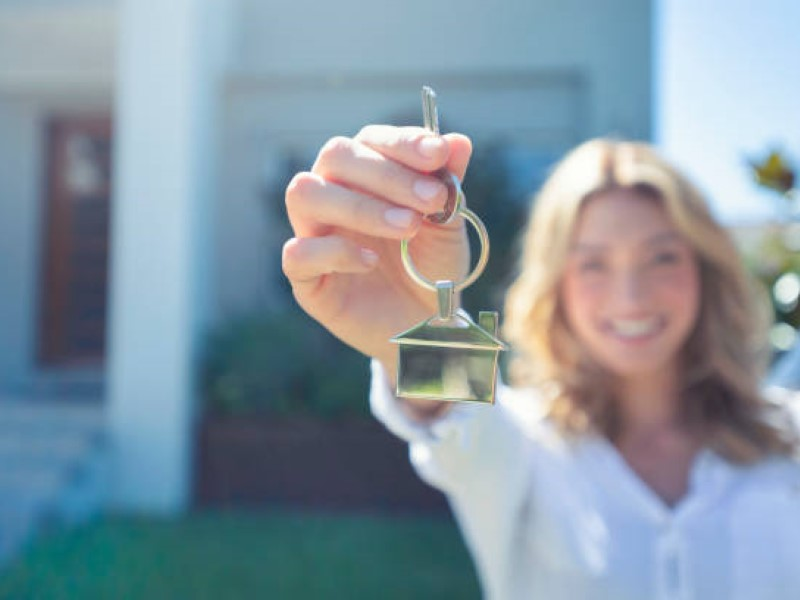key: (408, 78, 473, 224)
